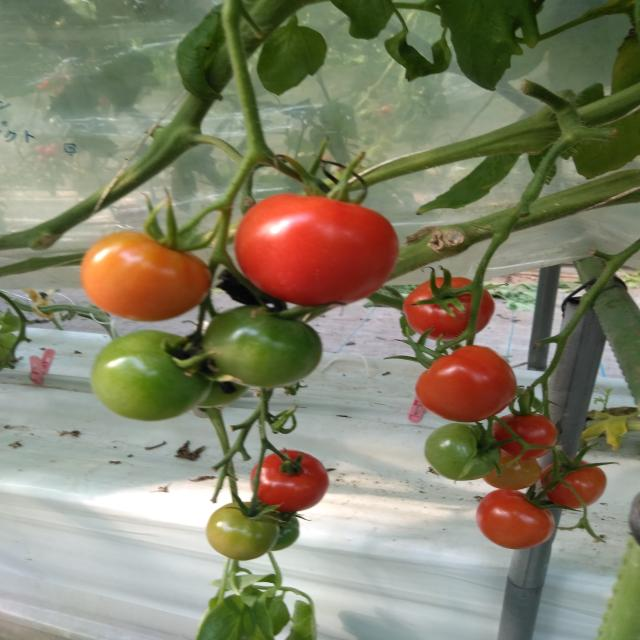c-half-riped: (79, 232, 211, 322), (481, 453, 542, 491)
c-riped: (235, 194, 399, 306), (414, 344, 518, 423), (402, 276, 496, 342), (250, 449, 330, 512), (476, 488, 555, 550), (490, 411, 557, 461), (540, 459, 607, 509)
c-unriped: (89, 329, 215, 422), (203, 306, 322, 386), (424, 423, 503, 481), (205, 502, 279, 561), (197, 362, 248, 407), (268, 510, 300, 551)
